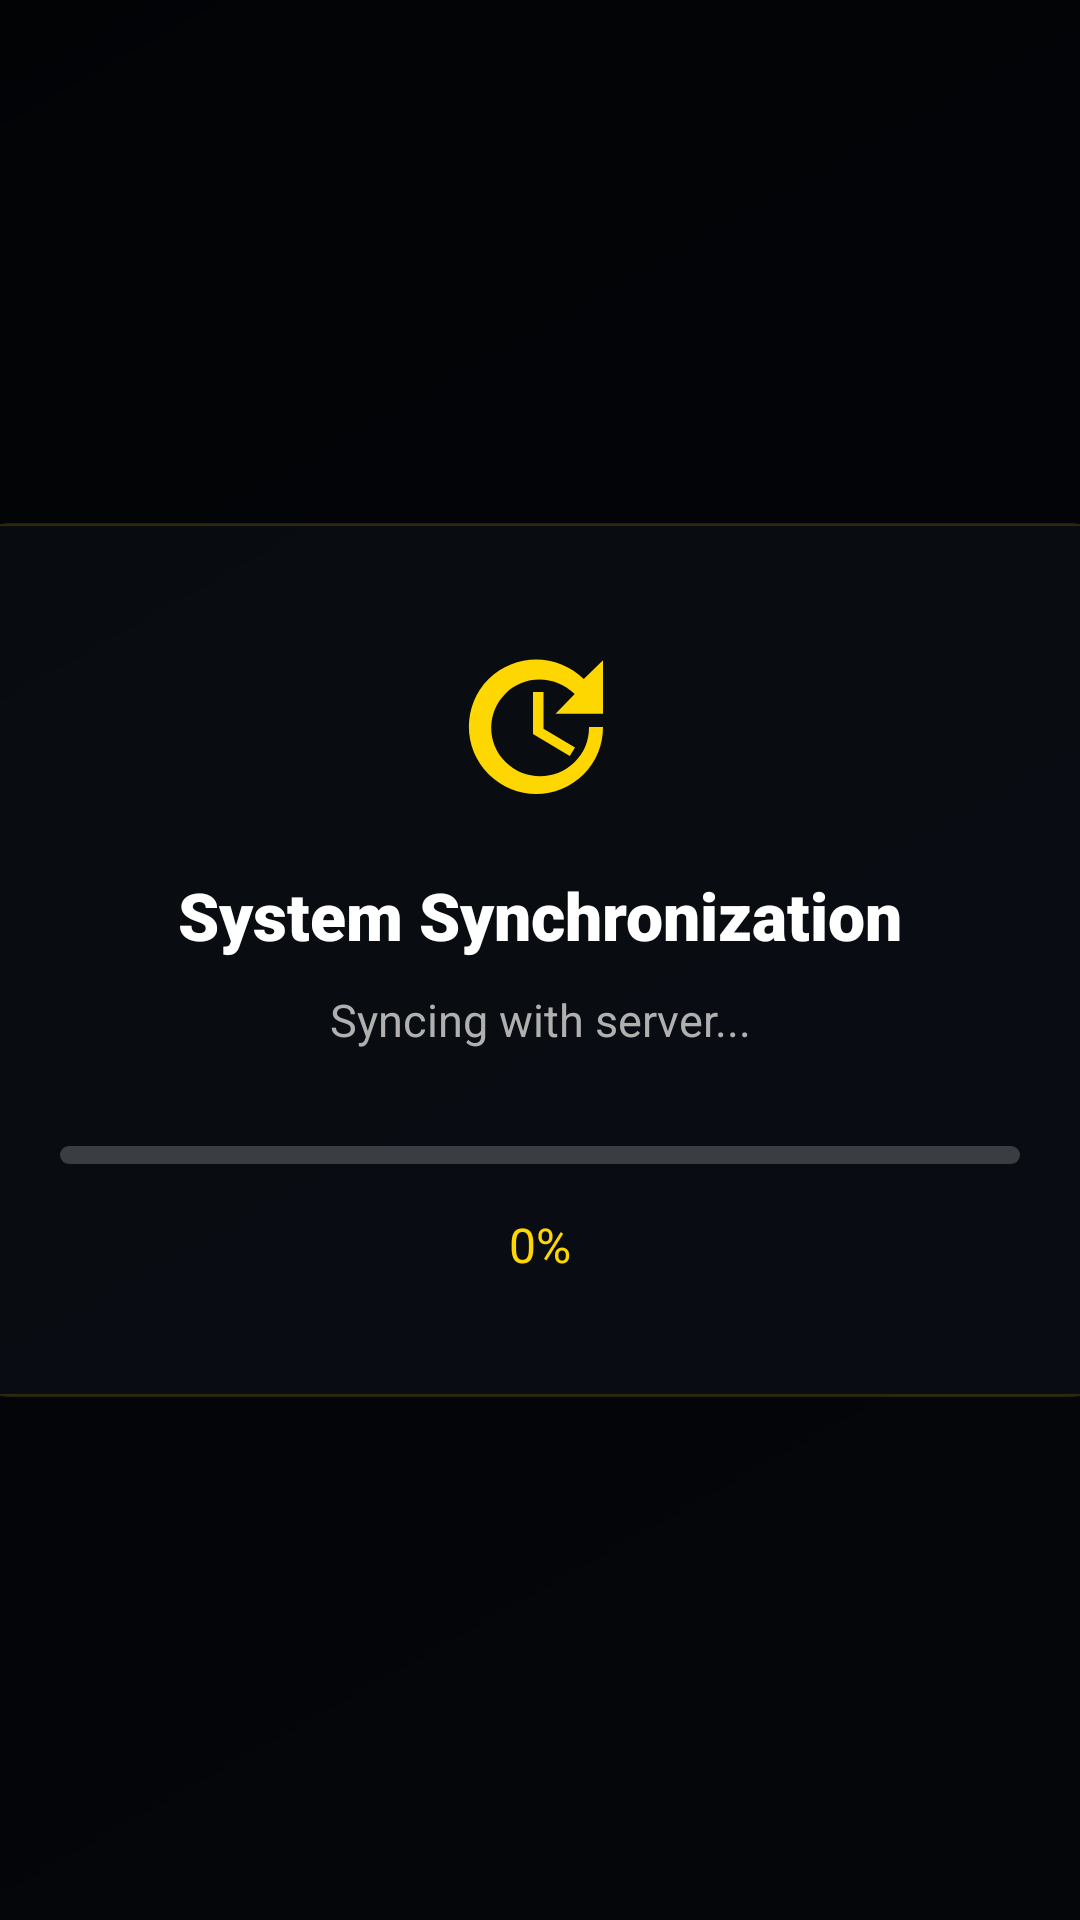

Screen size 1080x1920. Icon name, then its box in pixels as (x1, y1, x2, y2):
update: (468, 659, 603, 794)
